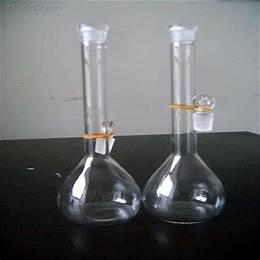Volumetric flask: (46, 15, 141, 225), (151, 23, 231, 225)
